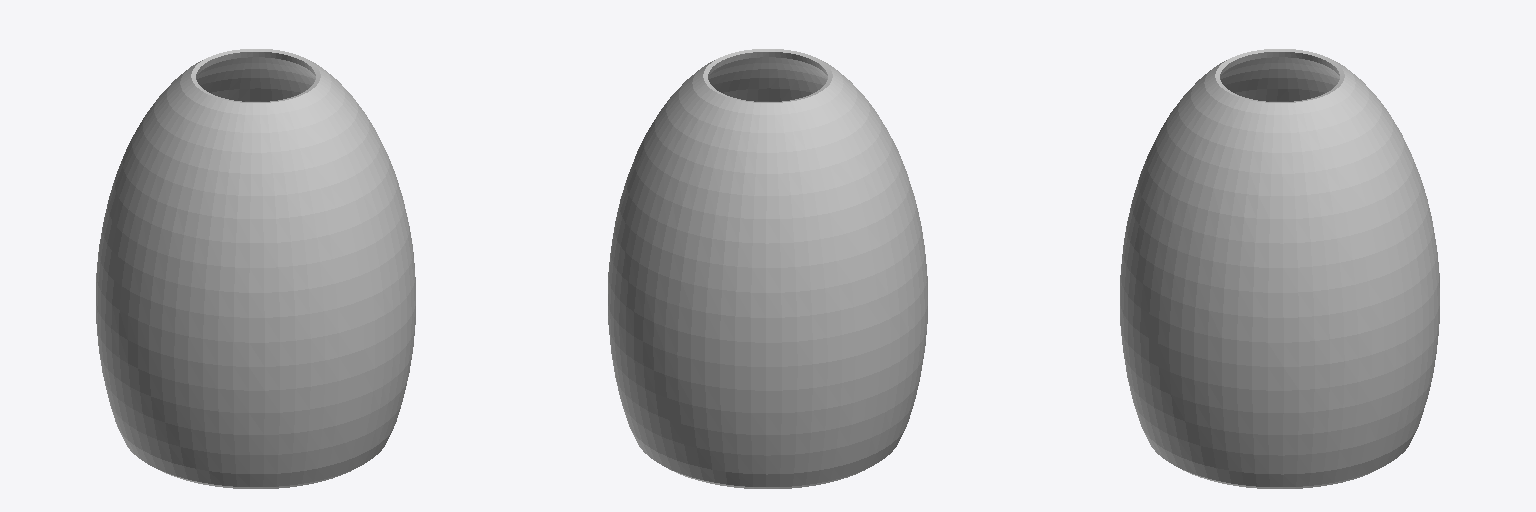
File: cerimic.obj
3 views of the same model, side by side, from view 1: azimuth 30°, elevation 25°; view 2: azimuth 150°, elevation 25°; view 3: azimuth 270°, elevation 25° (orthographic).
Visible parts, largest first — view 1: Sphere001; view 2: Sphere001; view 3: Sphere001.
Boxes of the visible parts, x1=… form: Sphere001: x1=96, y1=49, x2=415, y2=488; Sphere001: x1=608, y1=49, x2=927, y2=488; Sphere001: x1=1120, y1=49, x2=1439, y2=488.
Size of the model in its own units: 1.05 by 1.3 by 1.05.